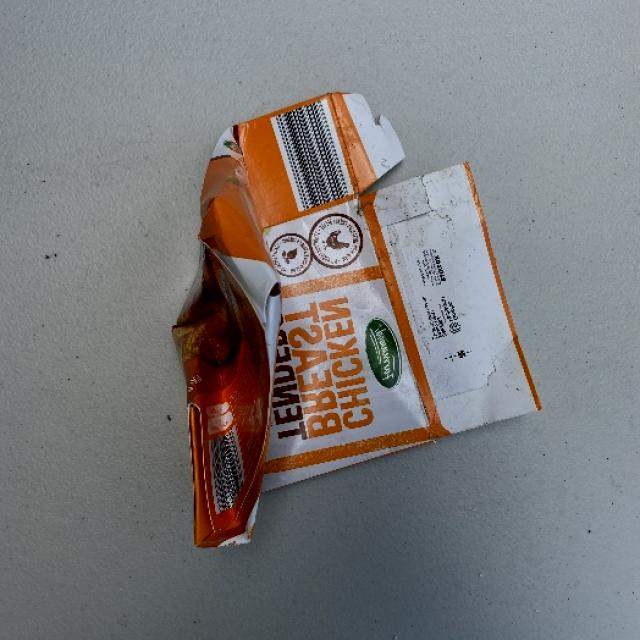inorganic: (130, 76, 538, 572)
